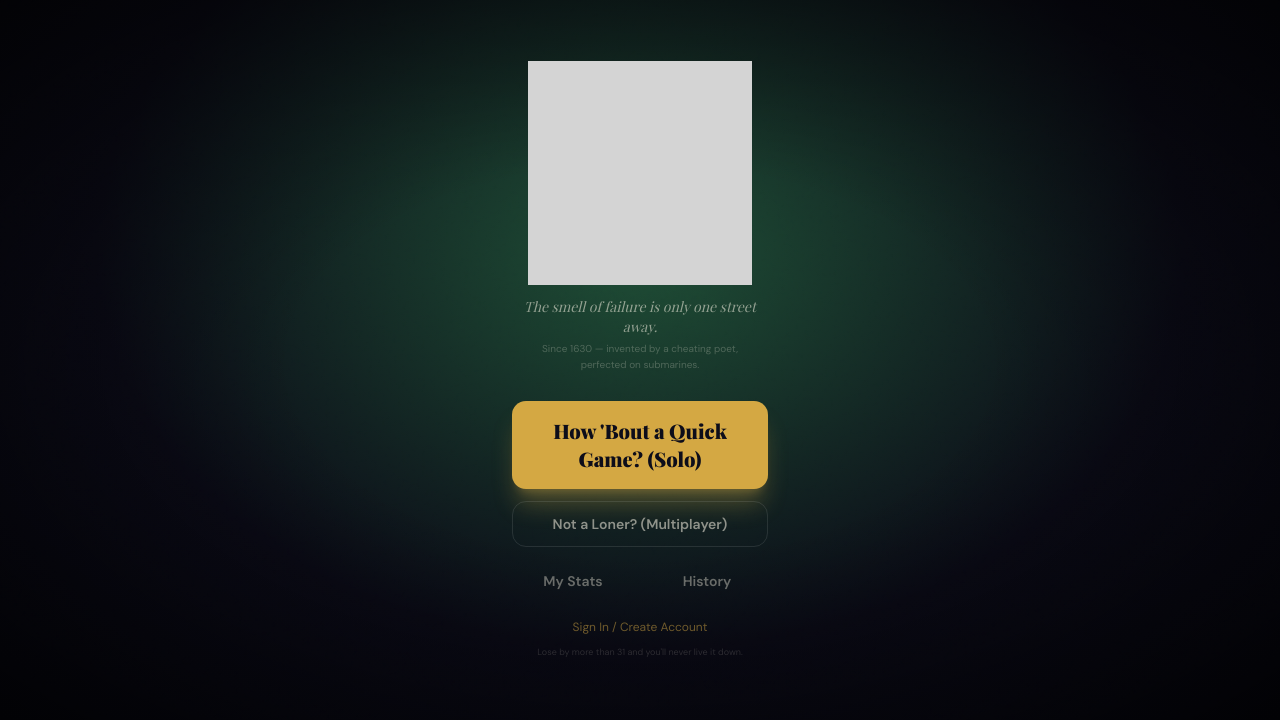
Scenario: GameScreen › transitions to game screen after clicking Deal Me In
This screenshot has width=1280, height=720.
Click the button with test id "deal-me-in-btn". click: x=640, y=445
box: [512,401,768,489]
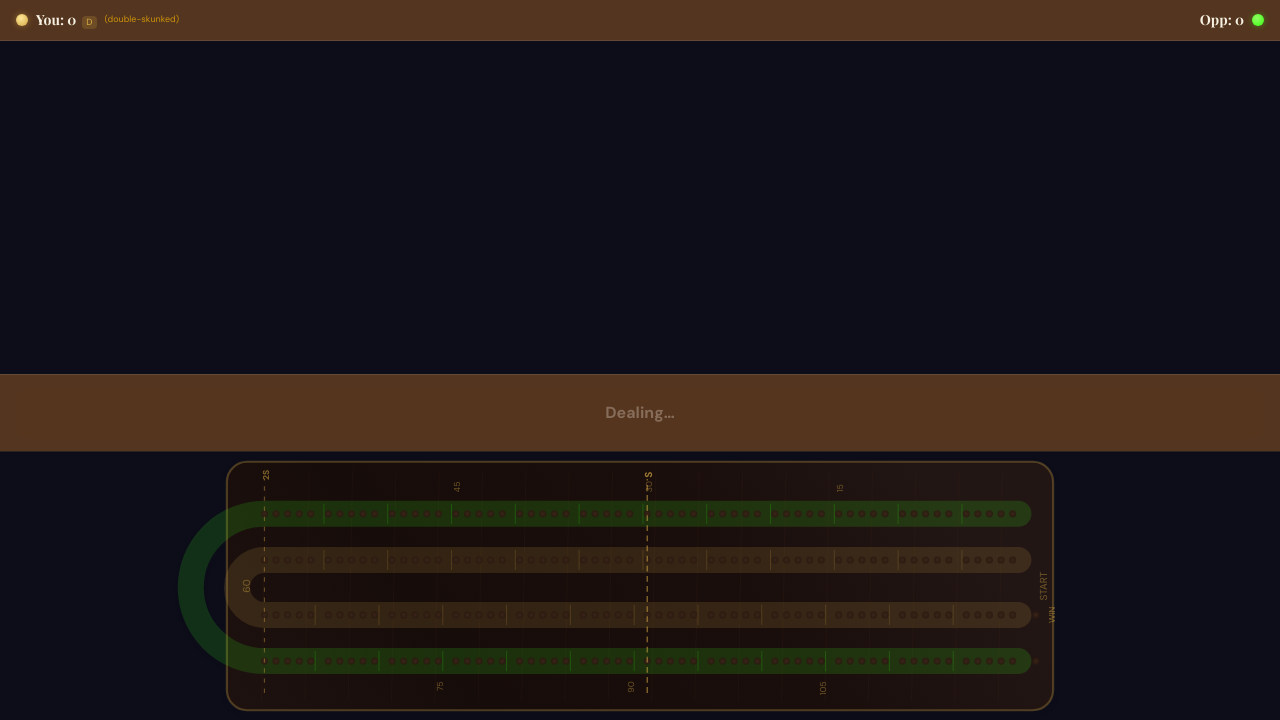
Expected: the element with test id "score-panel" is shown, [0,0,1279,41]
Expected: the element with test id "action-bar" is shown, [0,374,1279,451]
